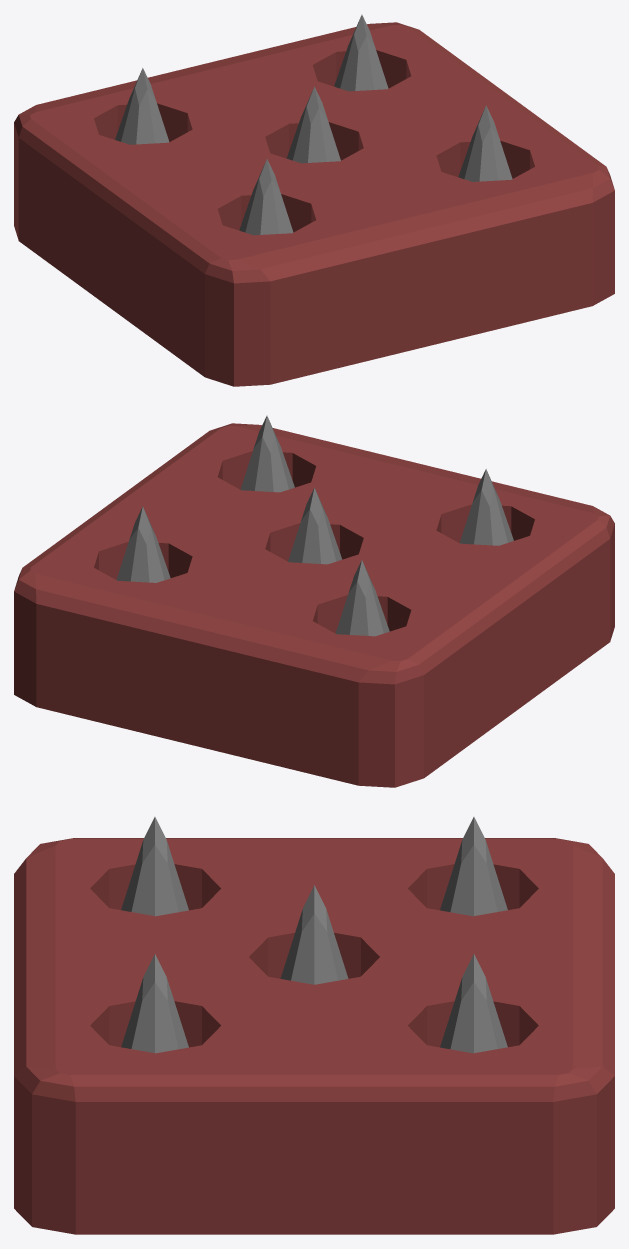
Rendered from spikes-village-21.glb.
3 renders of one model, top to bottom at view 1: azimuth 30°, elevation 25°; view 2: azimuth 150°, elevation 25°; view 3: azimuth 270°, elevation 25°, orthographic. The views are drawn at different scales.
Visible parts, largest first — view 1: piece; view 2: piece; view 3: piece.
Boxes of the visible parts, <box> form: piece: <box>14,14,614,386</box>; piece: <box>14,415,614,787</box>; piece: <box>14,817,614,1234</box>.
Bounding box in the file's own units: 2 × 0.8177 × 2.
